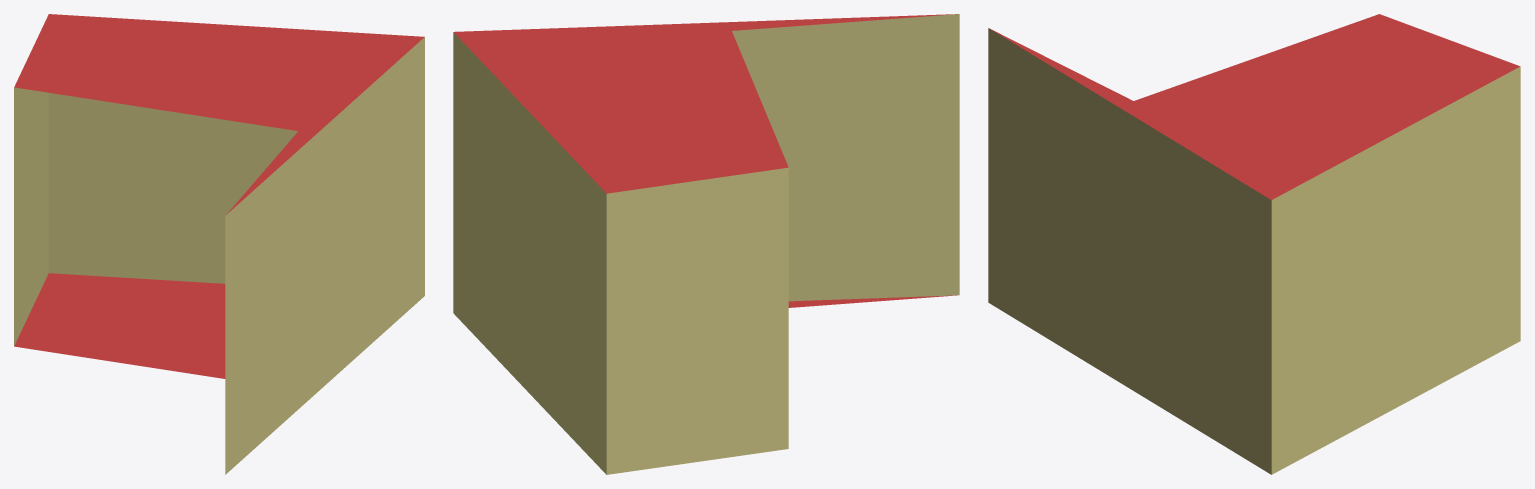
The picture shows the model from 3 angles, left to right: view 1: azimuth 30°, elevation 25°; view 2: azimuth 150°, elevation 25°; view 3: azimuth 270°, elevation 25°; orthographic projection. The views are drawn at different scales.
Size of the model in its own units: 8.21 by 9.91 by 5.65.
